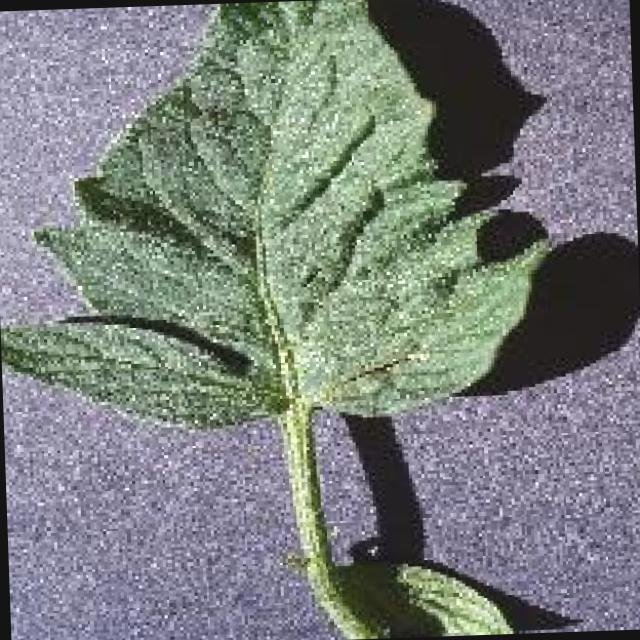healthy: (0, 0, 556, 640)
